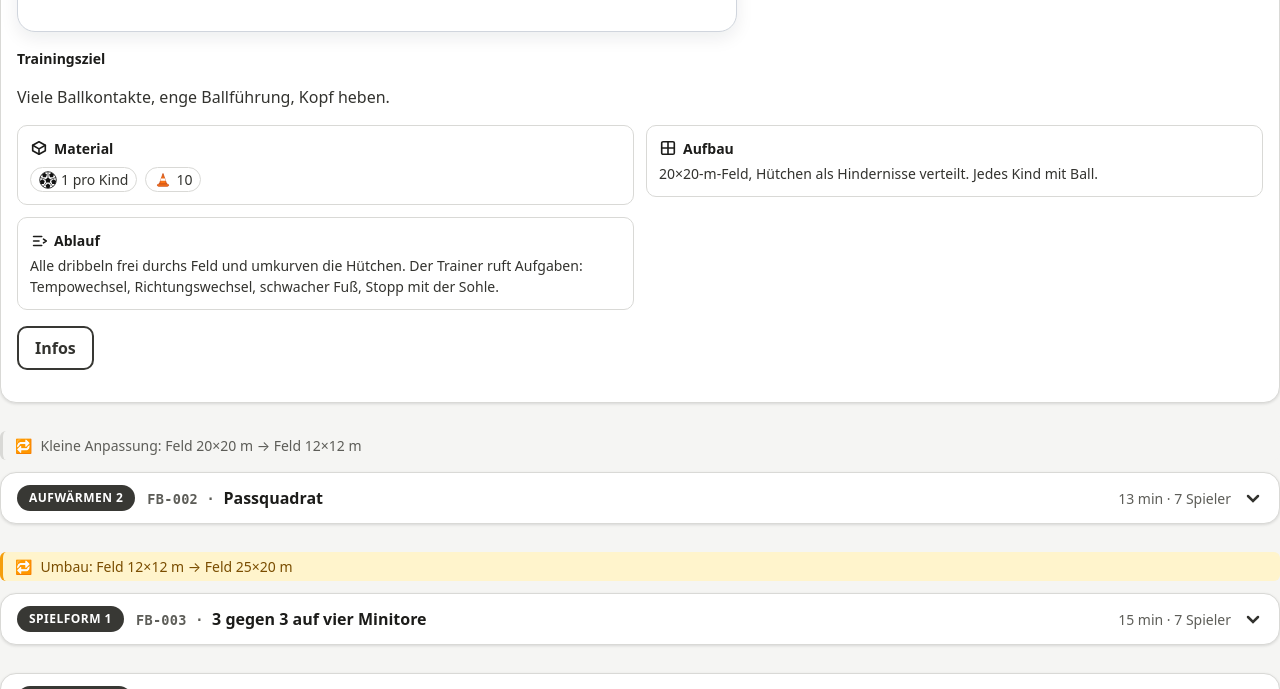
TrainingPlan-Komponente › zeigt Mannschaftseinteilung und Hinweis bei ungerader Spielerzahl im Infos-Sheet
(page scrolled)
Click the button "Infos". click: (55, 348)
box: [17,326,94,370]
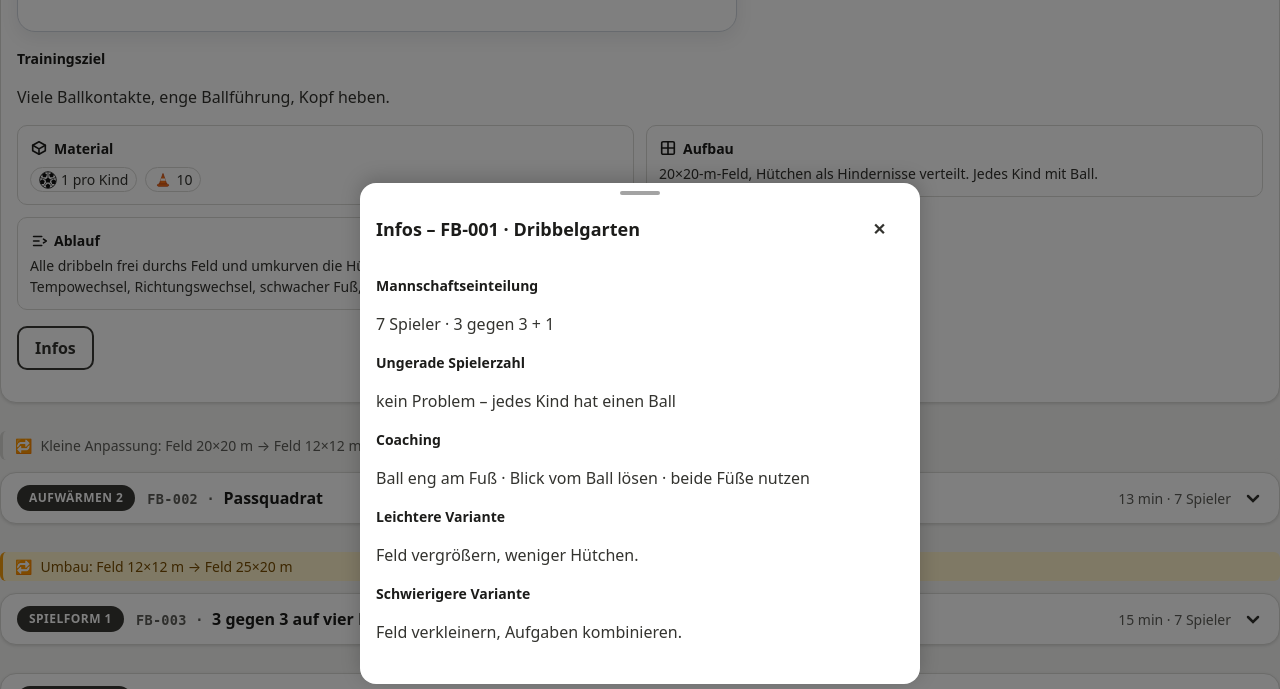
expect the heading "Ungerade Spielerzahl" is shown: met, box [376,353,525,372]
